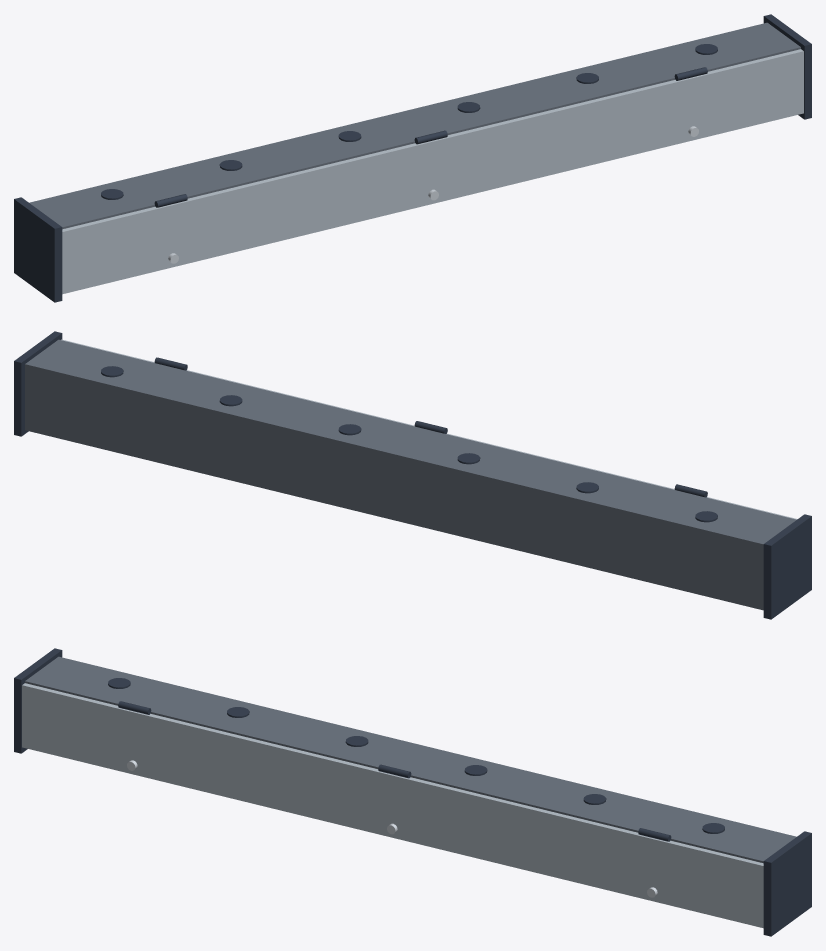
The picture shows the model from 3 angles, top to bottom: view 1: azimuth 30°, elevation 25°; view 2: azimuth 150°, elevation 25°; view 3: azimuth 330°, elevation 25°; orthographic projection.
Parts seen in each view (by area): view 1: cad-wireway-gutter-4x4; view 2: cad-wireway-gutter-4x4; view 3: cad-wireway-gutter-4x4.
Part boxes in pixels (x1,y1,x2,y2): cad-wireway-gutter-4x4: (14,14,811,302); cad-wireway-gutter-4x4: (14,331,811,619); cad-wireway-gutter-4x4: (14,648,811,936).
Bounding box in the file's own units: 1.22 × 0.115 × 0.118.
